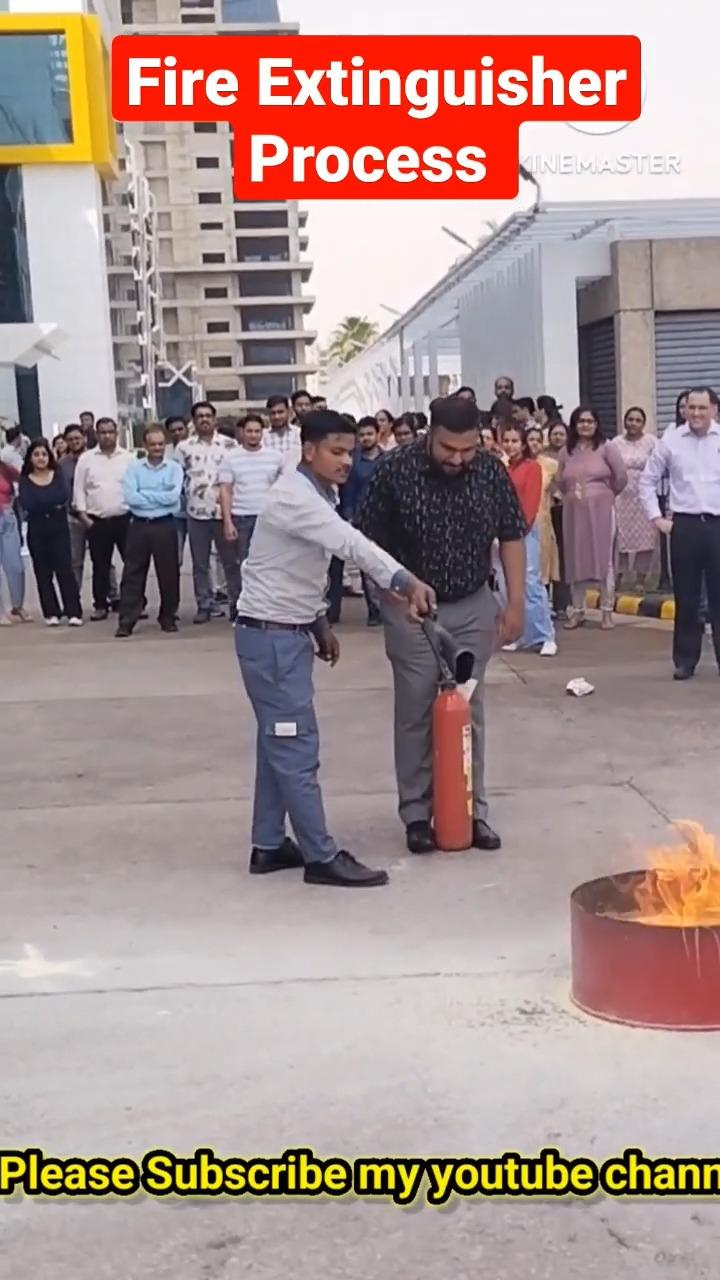FireExtinguisher: (415, 666, 501, 860)
